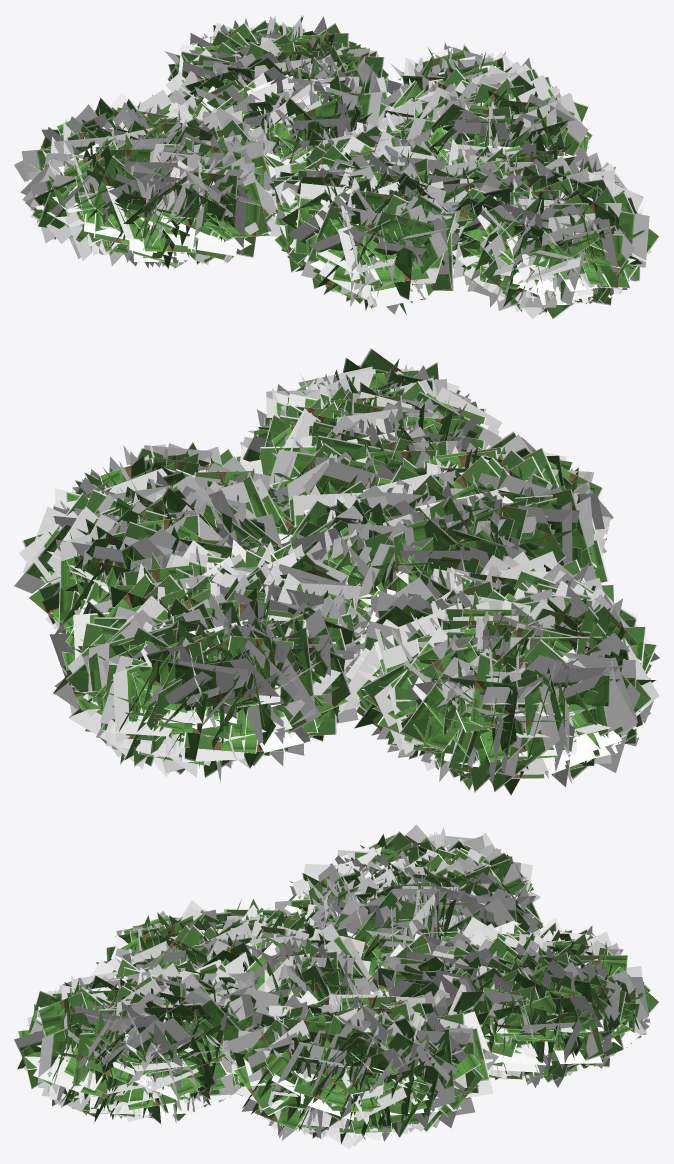
The model's file is K_nopee.FBX.
3 views of the same model, one above another, from view 1: azimuth 30°, elevation 25°; view 2: azimuth 150°, elevation 25°; view 3: azimuth 270°, elevation 25° (orthographic). The views are drawn at different scales.
Parts seen in each view (by area): view 1: Plane002; view 2: Plane002; view 3: Plane002.
Part boxes in pixels (x1,y1,x2,y2): Plane002: (14,15,659,319); Plane002: (14,348,659,795); Plane002: (14,824,659,1149).
Size of the model in its own units: 1498 by 413 by 1665.
2 materials, 2 textured.
